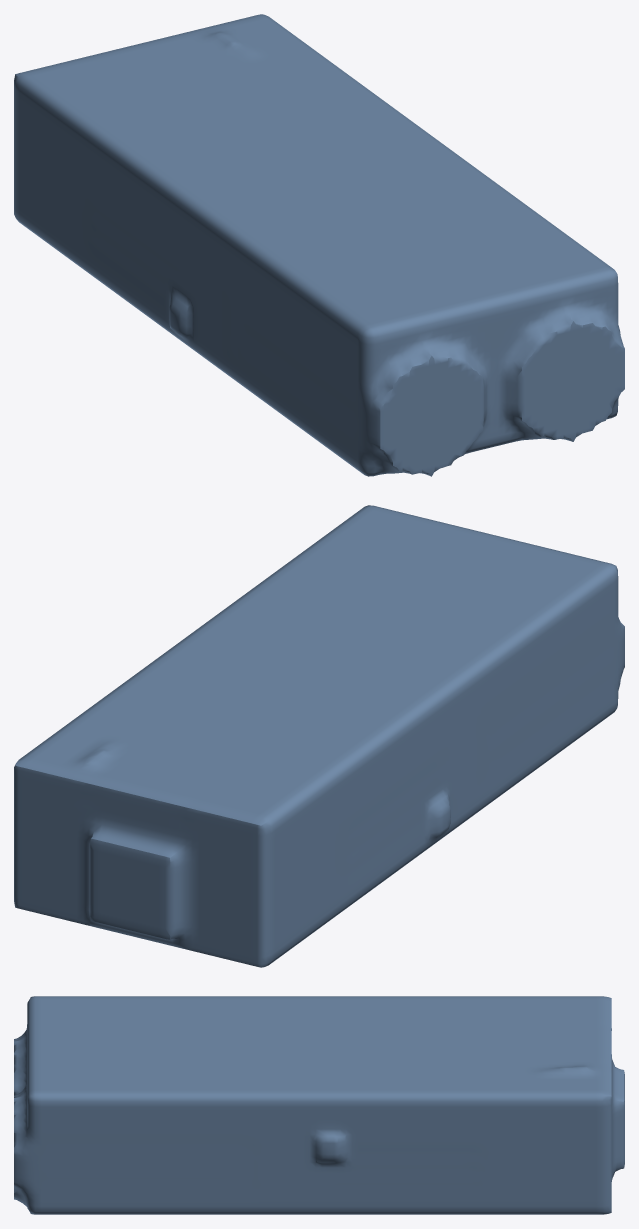
The model's file is staff-sales-idle.glb.
3 views of the same model, one above another, from view 1: azimuth 30°, elevation 25°; view 2: azimuth 150°, elevation 25°; view 3: azimuth 270°, elevation 25° (orthographic). The views are drawn at different scales.
Parts seen in each view (by area): view 1: Leg_-1; view 2: Leg_-1; view 3: Leg_-1.
Part boxes in pixels (x1,y1,x2,y2): Leg_-1: [14, 14, 624, 476]; Leg_-1: [14, 505, 624, 967]; Leg_-1: [14, 996, 624, 1214].
Size of the model in its own units: 0.5076 by 0.2776 by 1.2.
